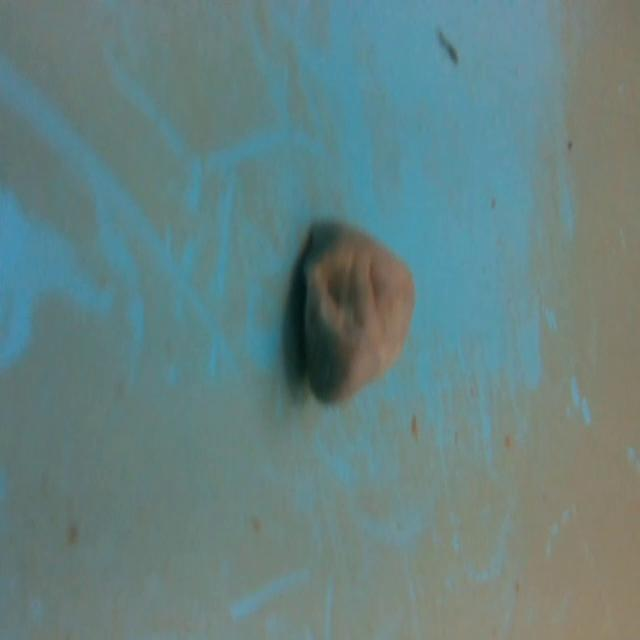rock: (293, 206, 419, 415)
